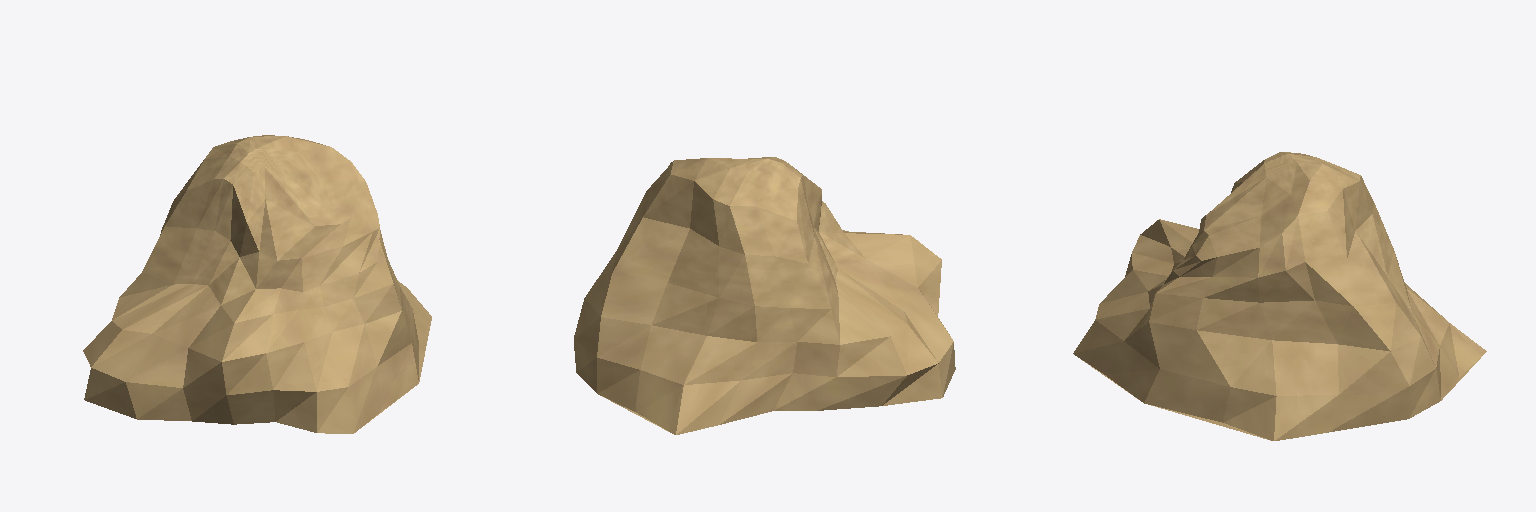
3 renders of one model, left to right at view 1: azimuth 30°, elevation 25°; view 2: azimuth 150°, elevation 25°; view 3: azimuth 270°, elevation 25°, orthographic.
Visible parts, largest first — view 1: rock_01; view 2: rock_01; view 3: rock_01.
Part boxes in pixels (x1,y1,x2,y2): rock_01: (83, 135, 431, 433); rock_01: (574, 157, 955, 434); rock_01: (1073, 152, 1486, 440).
Size of the model in its own units: 17.78 by 9.9 by 18.4.
Materials: 1 (1 with a texture image).